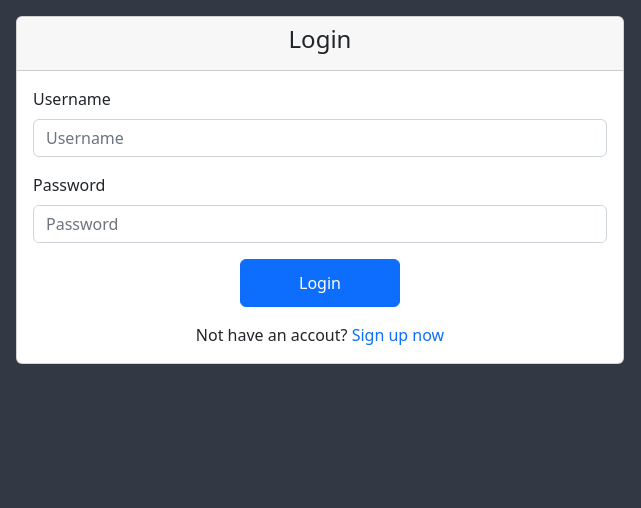
Login page test › Alert error if password is empty
In the field with placeholder "Username": x=320, y=138 [33,119,607,157], type "test"
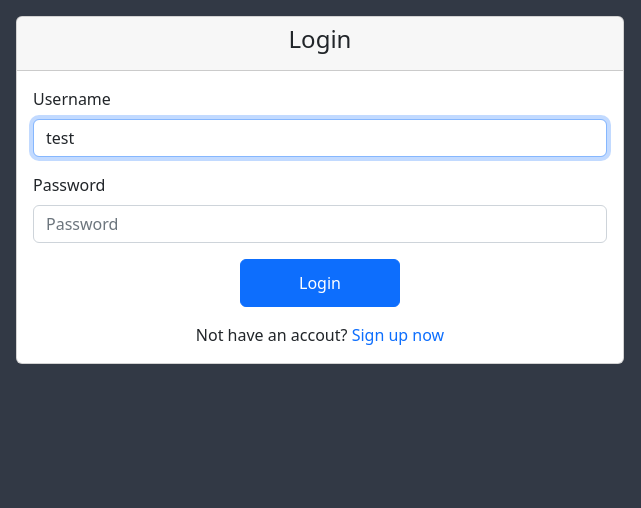
Click the button "Login": x=320, y=283 [240,259,400,307]
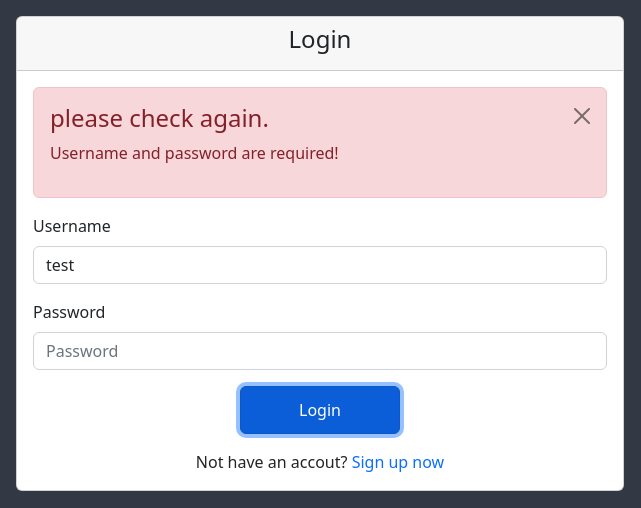
Now the text "Username and password are required!" is shown, box [50,142,339,164]
